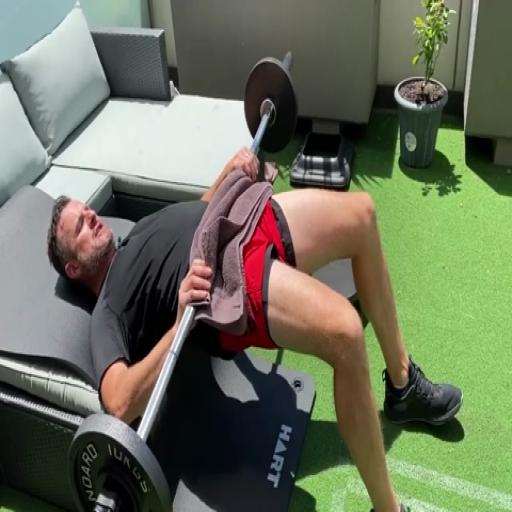exercise: (45, 144, 465, 510)
